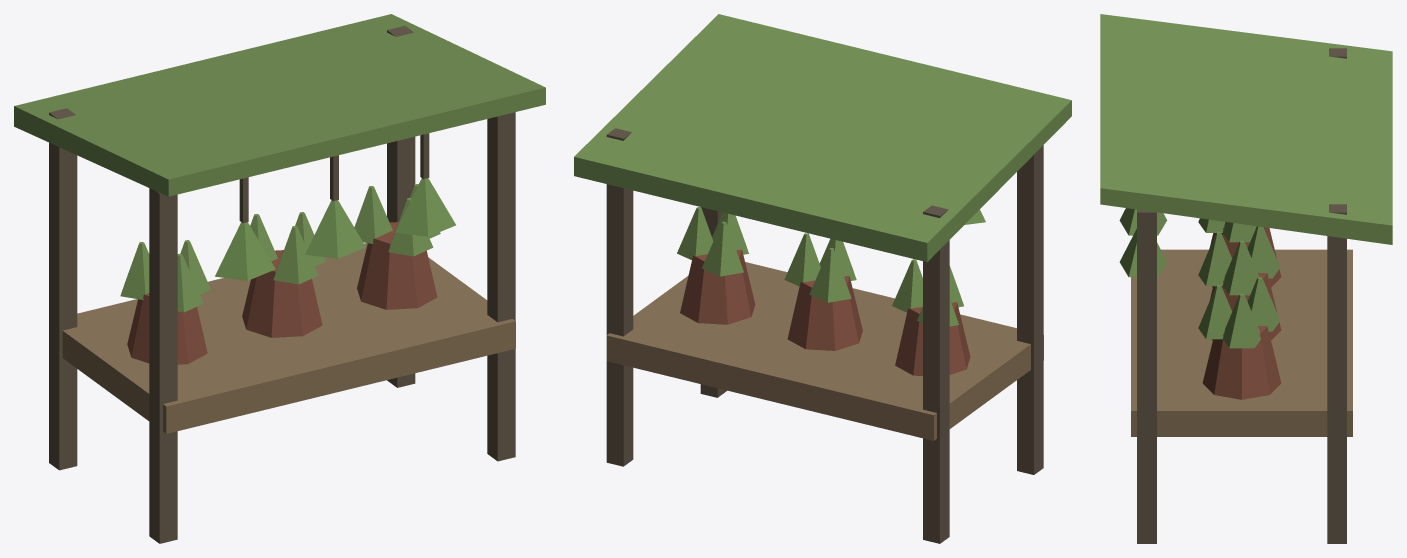
Rendered from Town_StallHerbs.fbx.
3 renders of one model, left to right at view 1: azimuth 30°, elevation 25°; view 2: azimuth 150°, elevation 25°; view 3: azimuth 270°, elevation 25°, orthographic. The views are drawn at different scales.
Visible parts, largest first — view 1: Town_StallHerbs; view 2: Town_StallHerbs; view 3: Town_StallHerbs.
Part boxes in pixels (x1,y1,x2,y2): Town_StallHerbs: [14, 14, 545, 543]; Town_StallHerbs: [574, 14, 1071, 543]; Town_StallHerbs: [1100, 14, 1392, 543].
Size of the model in its own units: 2.3 by 2.22 by 1.63.
